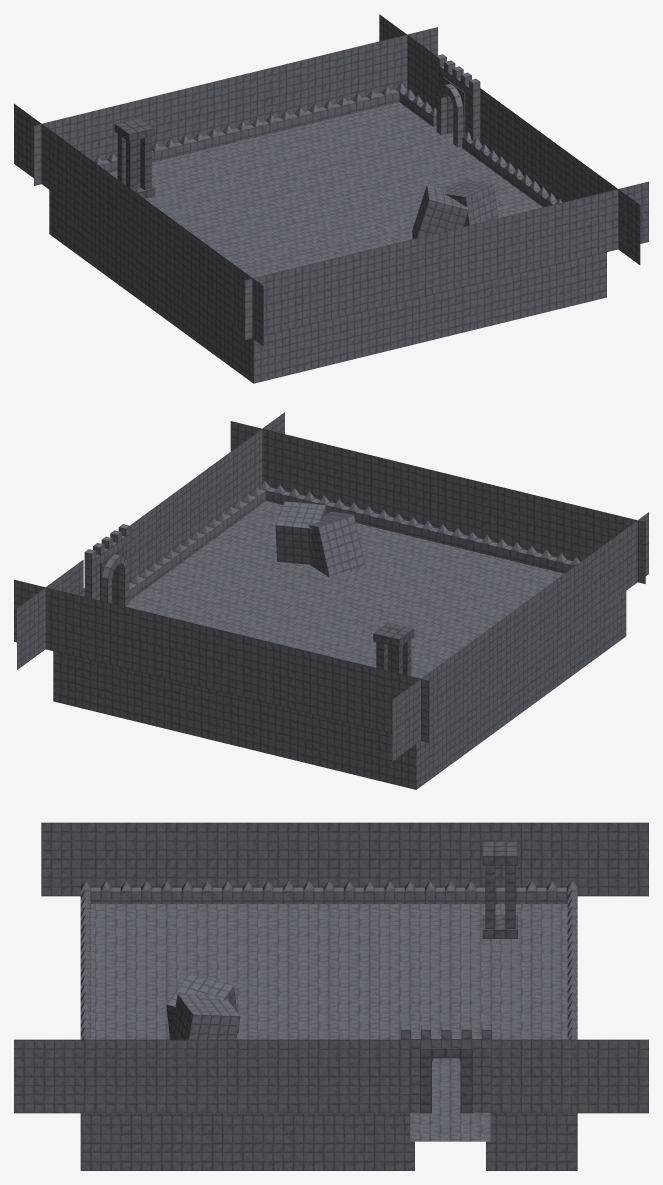
Rendered from Stage01.fbx.
3 renders of one model, top to bottom at view 1: azimuth 30°, elevation 25°; view 2: azimuth 150°, elevation 25°; view 3: azimuth 270°, elevation 25°, orthographic. The views are drawn at different scales.
Parts seen in each view (by area): view 1: Castle_Ground___Bright_8x8__26_, Castle_Ground___Bright_8x8__23_, Castle_Ground___Bright_8x8__22_, Castle_Ground___Bright_8x8__24_, Castle_Ground___Bright_8x8__25_, Castle_Gate_5__1_, Castle_Wall_14__31_, Castle_Ground___Bright_8x8__18_, Castle_Ground___Bright_8x8__20_, Castle_Ground___Bright_8x8__16_, Castle_Ground___Bright_8x8__17_, Castle_Ground___Bright_8x8__15_ (+63 smaller); view 2: Castle_Ground___Bright_8x8__15_, Castle_Ground___Bright_8x8__14_, Castle_Ground___Bright_8x8__17_, Castle_Ground___Bright_8x8__16_, Castle_Ground___Bright_8x8__18_, Castle_Ground___Bright_8x8__23_, Castle_Ground___Bright_8x8__24_, Castle_Ground___Bright_8x8__26_, Castle_Ground___Bright_8x8__25_, Castle_Ground___Bright_8x8__22_, Castle_Wall_14__27_, Castle_Wall_14__29_ (+65 smaller); view 3: Castle_Ground___Bright_8x8__3__1, Castle_Ground___Bright_8x8__3__3, Castle_Ground___Bright_8x8__3_, Castle_Ground___Bright_8x8__3__2, Castle_Ground___Bright_8x8__4__1, Castle_Ground___Bright_8x8__13_, Castle_Ground___Bright_8x8__4_, Castle_Gate_5__1_, Castle_Ground___Bright_8x8__3__4, Castle_Ground___Bright_8x8__11__1, Castle_Ground___Bright_8x8__11__4, Castle_Ground___Bright_8x8__11__5 (+43 smaller).
Boxes of the visible parts, x1=… form: Castle_Ground___Bright_8x8__26_: x1=533, y1=195, x2=591, y2=269; Castle_Ground___Bright_8x8__23_: x1=360, y1=238, x2=418, y2=312; Castle_Ground___Bright_8x8__22_: x1=302, y1=252, x2=360, y2=326; Castle_Ground___Bright_8x8__24_: x1=418, y1=224, x2=475, y2=297; Castle_Ground___Bright_8x8__25_: x1=476, y1=209, x2=533, y2=283; Castle_Gate_5__1_: x1=435, y1=54, x2=480, y2=146; Castle_Wall_14__31_: x1=249, y1=322, x2=318, y2=383; Castle_Ground___Bright_8x8__18_: x1=322, y1=41, x2=380, y2=106; Castle_Ground___Bright_8x8__20_: x1=245, y1=266, x2=302, y2=340; Castle_Ground___Bright_8x8__16_: x1=207, y1=69, x2=264, y2=134; Castle_Ground___Bright_8x8__17_: x1=265, y1=55, x2=322, y2=120; Castle_Ground___Bright_8x8__15_: x1=149, y1=83, x2=207, y2=146; Castle_Ground___Bright_8x8__15_: x1=251, y1=637, x2=310, y2=713; Castle_Ground___Bright_8x8__14_: x1=310, y1=652, x2=369, y2=728; Castle_Ground___Bright_8x8__17_: x1=132, y1=608, x2=191, y2=684; Castle_Ground___Bright_8x8__16_: x1=191, y1=623, x2=250, y2=699; Castle_Ground___Bright_8x8__18_: x1=73, y1=594, x2=132, y2=670; Castle_Ground___Bright_8x8__23_: x1=467, y1=479, x2=526, y2=549; Castle_Ground___Bright_8x8__24_: x1=408, y1=464, x2=467, y2=535; Castle_Ground___Bright_8x8__26_: x1=290, y1=435, x2=349, y2=506; Castle_Ground___Bright_8x8__25_: x1=349, y1=450, x2=408, y2=520; Castle_Ground___Bright_8x8__22_: x1=527, y1=493, x2=586, y2=561; Castle_Wall_14__27_: x1=231, y1=694, x2=297, y2=759; Castle_Wall_14__29_: x1=112, y1=666, x2=179, y2=730; Castle_Ground___Bright_8x8__3__1: x1=247, y1=1039, x2=328, y2=1113; Castle_Ground___Bright_8x8__3__3: x1=166, y1=1039, x2=247, y2=1113; Castle_Ground___Bright_8x8__3_: x1=329, y1=1039, x2=409, y2=1113; Castle_Ground___Bright_8x8__3__2: x1=491, y1=1039, x2=571, y2=1113; Castle_Ground___Bright_8x8__4__1: x1=14, y1=1039, x2=94, y2=1113; Castle_Ground___Bright_8x8__13_: x1=568, y1=822, x2=648, y2=896; Castle_Ground___Bright_8x8__4_: x1=572, y1=1039, x2=648, y2=1113; Castle_Gate_5__1_: x1=400, y1=1025, x2=491, y2=1113; Castle_Ground___Bright_8x8__3__4: x1=95, y1=1039, x2=166, y2=1113; Castle_Ground___Bright_8x8__11__1: x1=247, y1=822, x2=328, y2=887; Castle_Ground___Bright_8x8__11__4: x1=166, y1=822, x2=247, y2=887; Castle_Ground___Bright_8x8__11__5: x1=85, y1=822, x2=166, y2=887.
Size of the model in its own units: 4380 by 1175 by 4700.
1 material, 1 textured.
